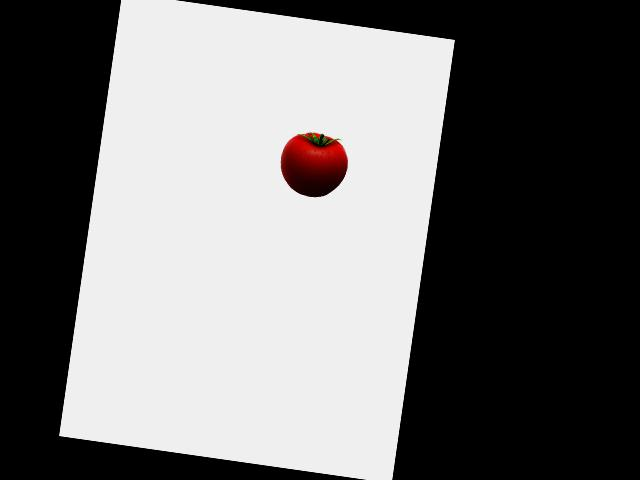tomato: (284, 129, 351, 201)
